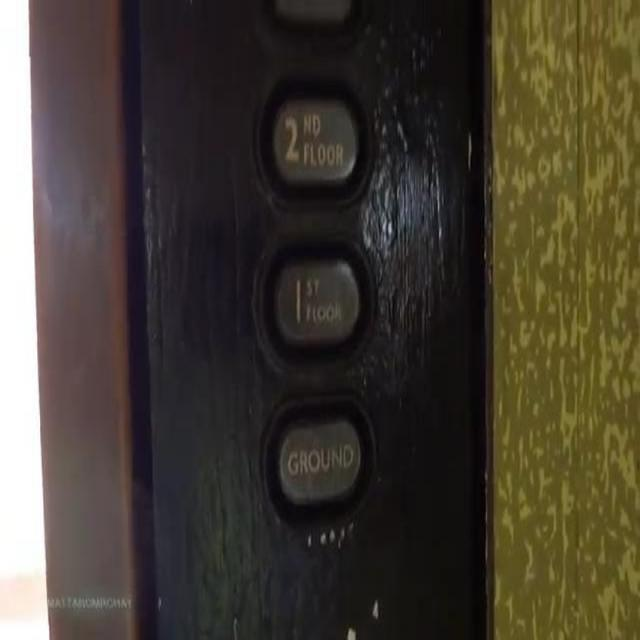1: (248, 225, 378, 374)
2: (252, 64, 376, 216)
text: (256, 386, 380, 534)
